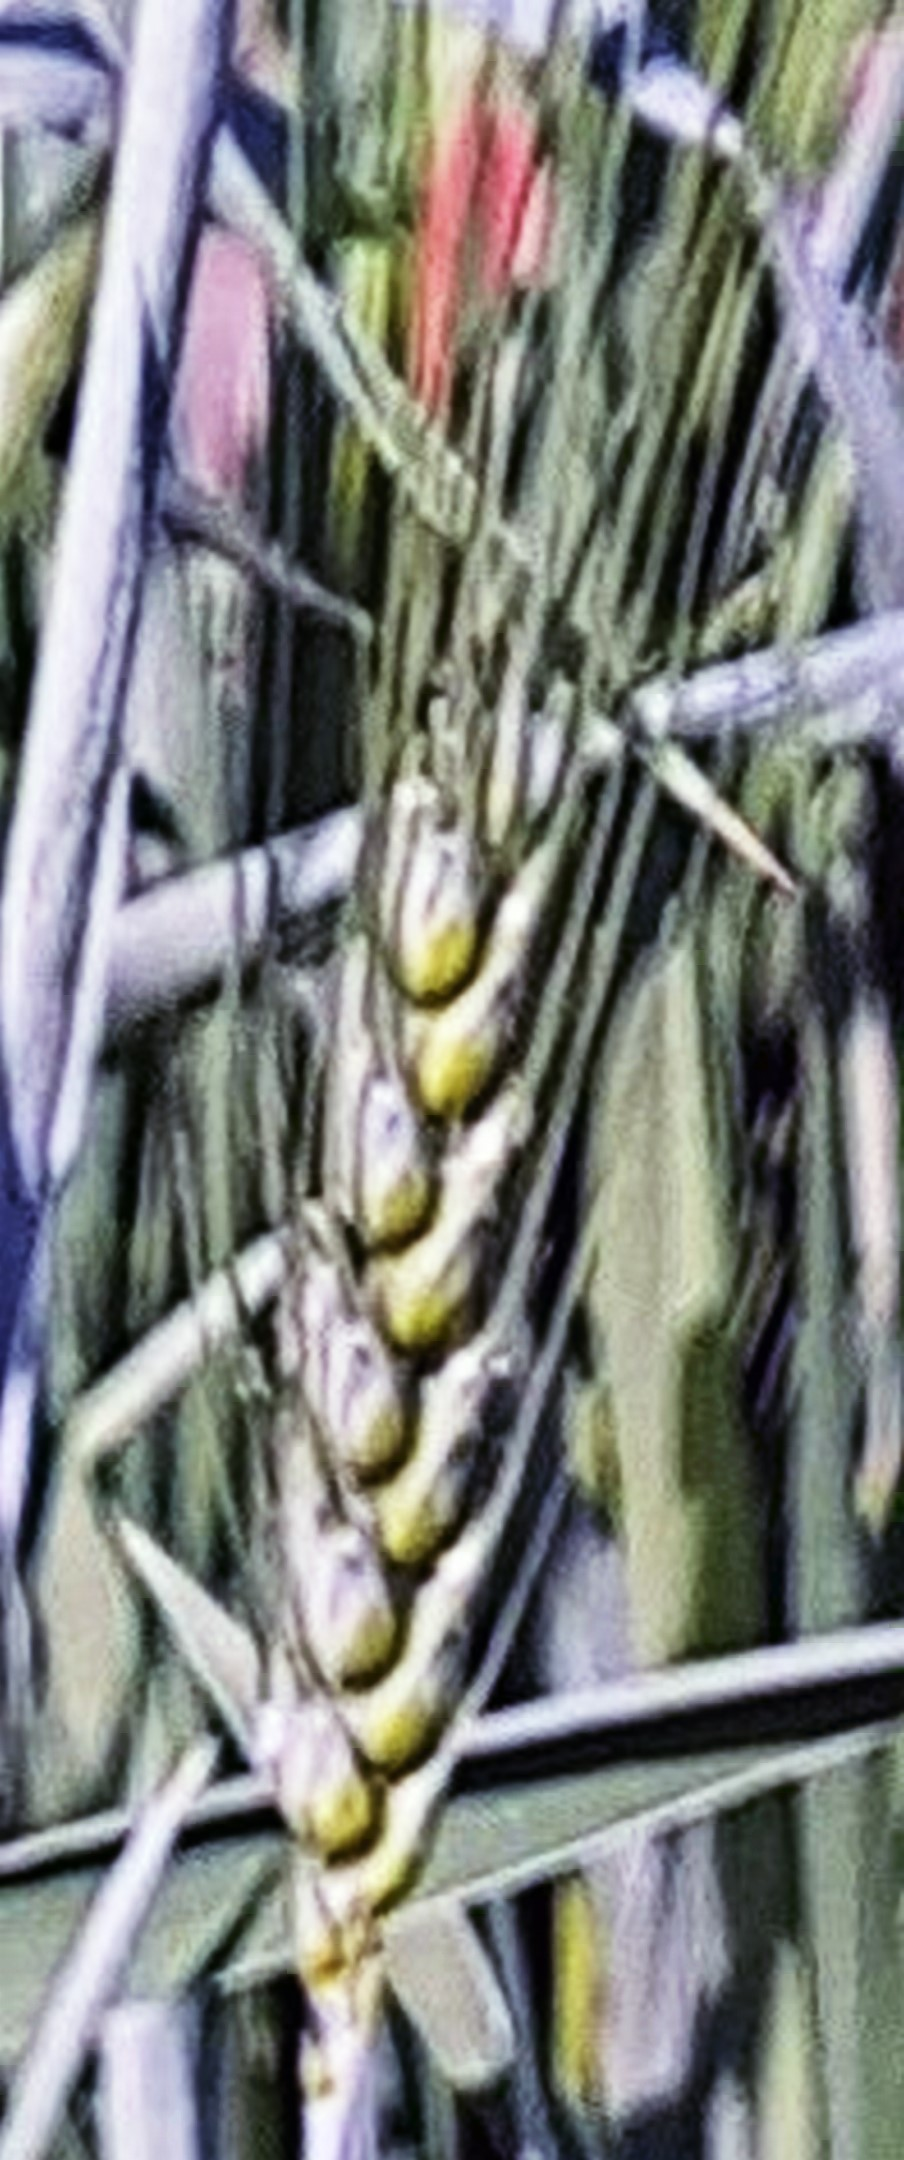Healthy Wheat: (244, 598, 635, 1963)
